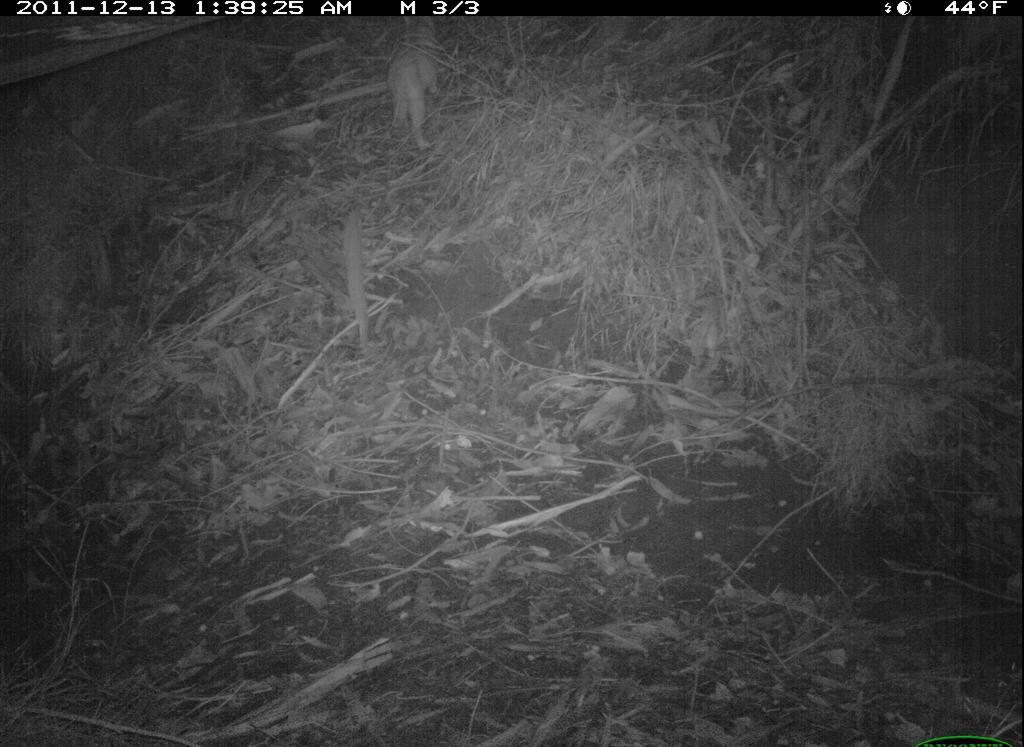cat: (385, 3, 452, 157)
